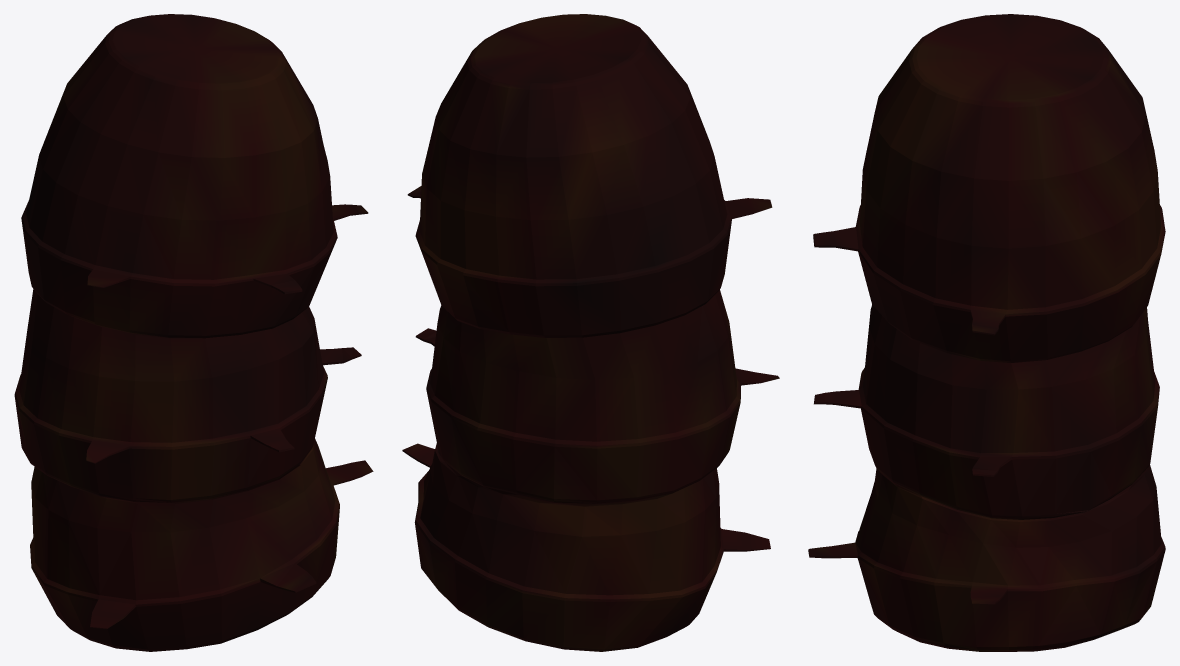
File: mado_jar_00ee5454.glb
3 renders of one model, left to right at view 1: azimuth 30°, elevation 25°; view 2: azimuth 150°, elevation 25°; view 3: azimuth 270°, elevation 25°, orthographic. The views are drawn at different scales.
Visible parts, largest first — view 1: SM_Mado_Jal_M_Mado_Jal_0; view 2: SM_Mado_Jal_M_Mado_Jal_0; view 3: SM_Mado_Jal_M_Mado_Jal_0.
Part boxes in pixels (bbox=[...]): SM_Mado_Jal_M_Mado_Jal_0: bbox=[14, 14, 373, 651]; SM_Mado_Jal_M_Mado_Jal_0: bbox=[402, 14, 779, 651]; SM_Mado_Jal_M_Mado_Jal_0: bbox=[808, 14, 1165, 651].
Size of the model in its own units: 0.4834 by 0.7823 by 0.4365.
